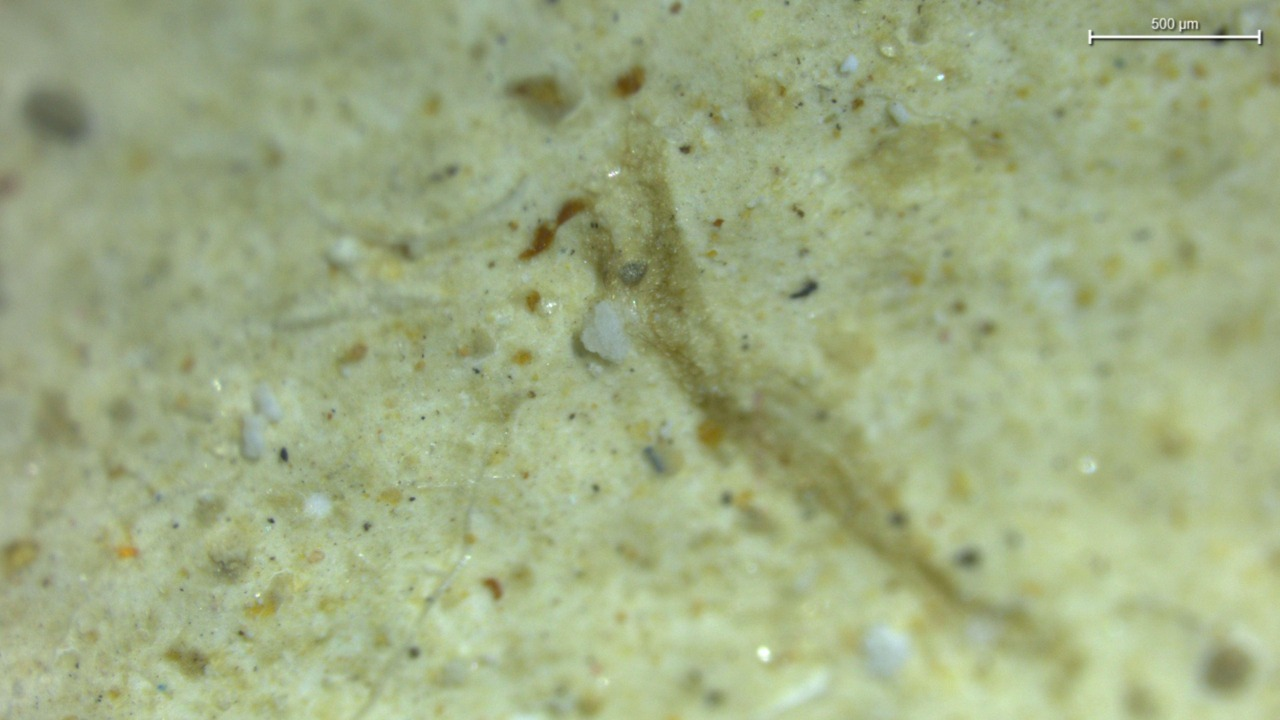microplastic_fragment: (580, 300, 630, 363), (253, 383, 282, 422), (241, 415, 265, 460)
